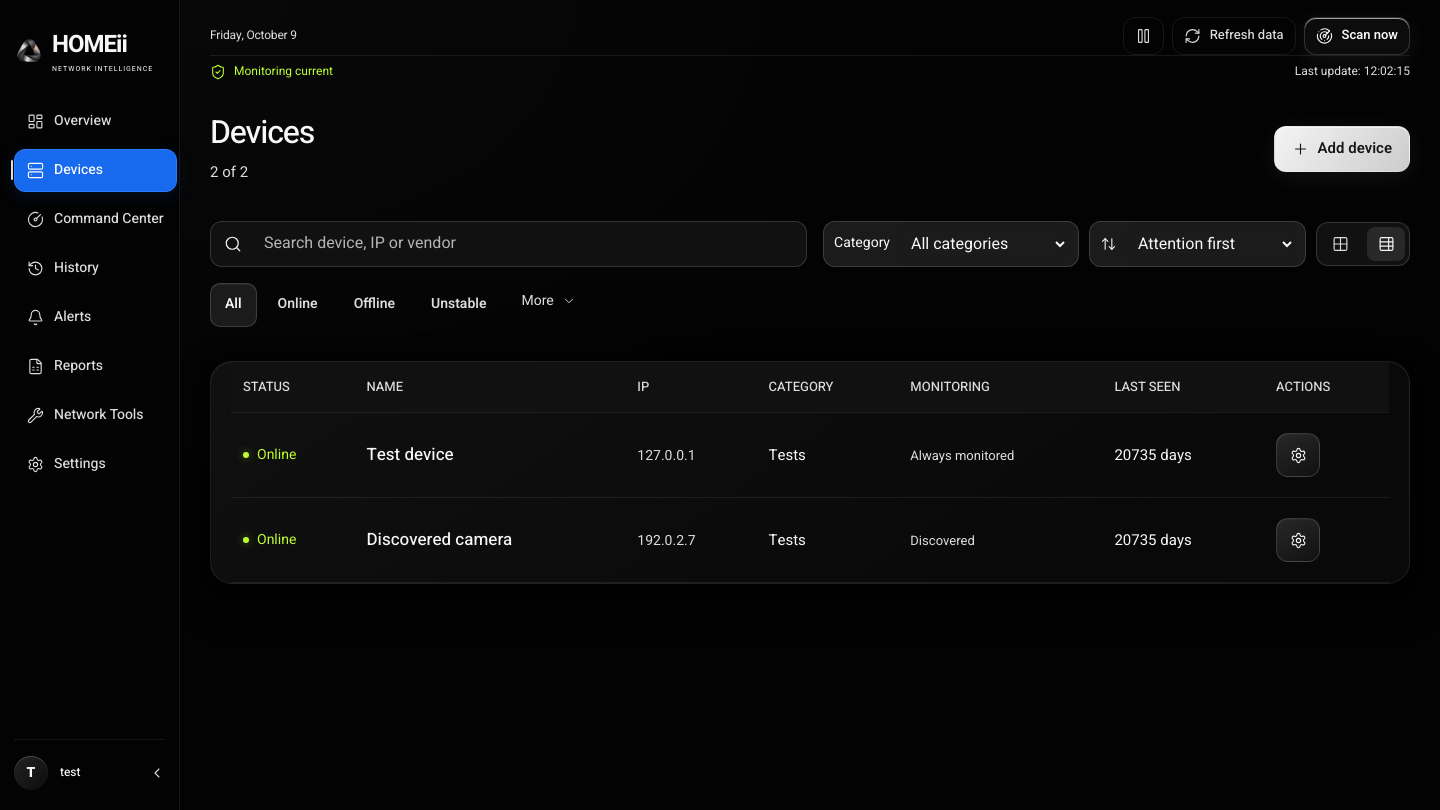
Scenario: secondary forms and navigation › opens a device from its name and shows how it is monitored
The width and height of the screenshot is (1440, 810).
Expected: the button "Refresh data" is shown, [1172,16,1296,54]
Expected: the row "Discovered camera" is shown, [910,531,975,550]
Click the button "Discovered camera".
click(439, 540)  # box [366,528,512,553]
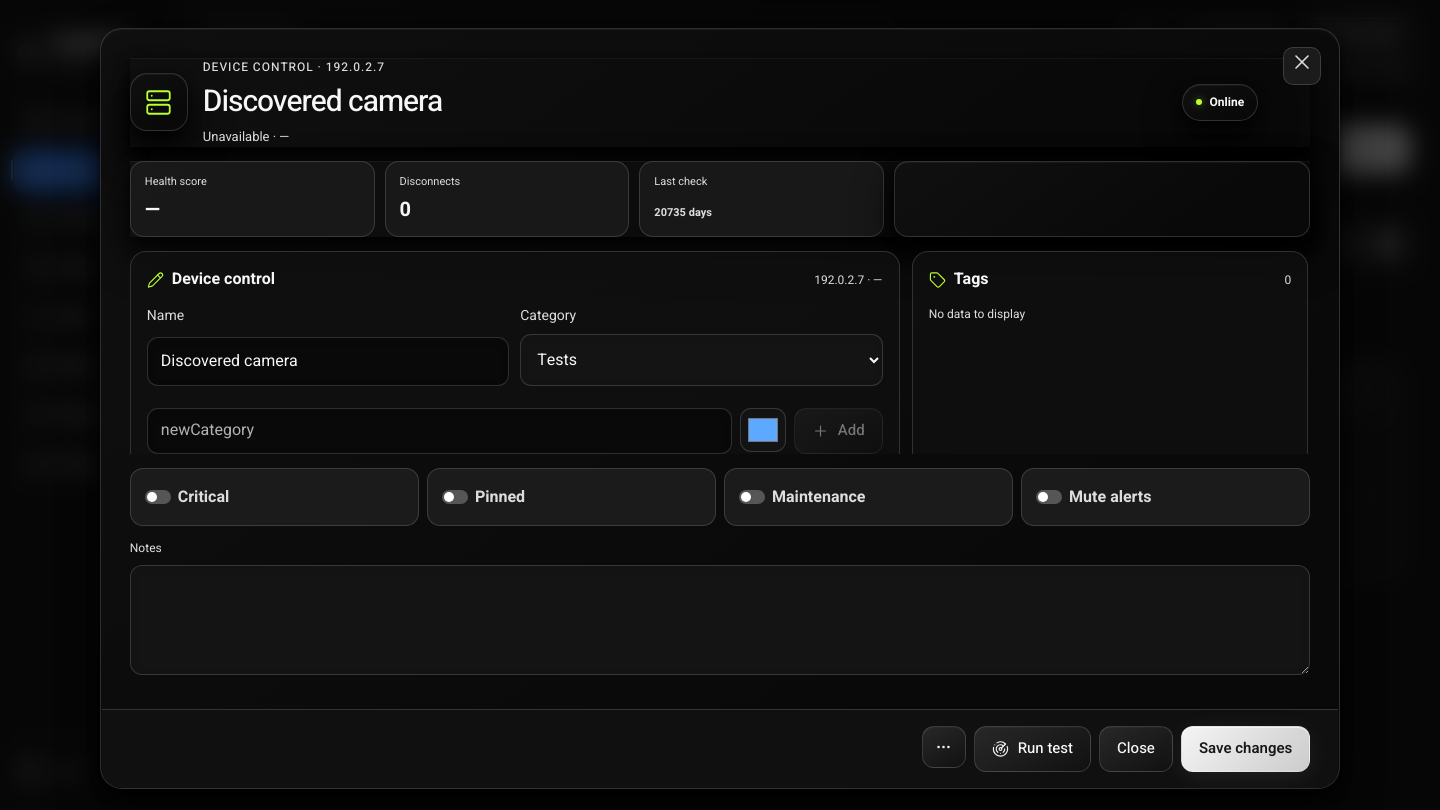
Result: the element with class "device-editor" shows "192.0.2.7" at [326,58,385,76]
